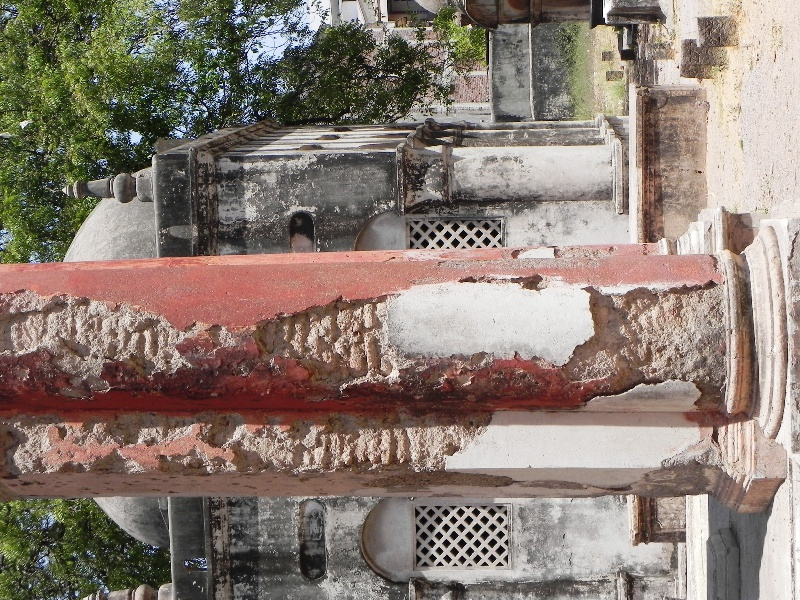Exposed Bricks: (261, 309, 393, 371)
Spalling: (1, 402, 520, 490), (5, 287, 219, 397), (567, 275, 735, 414)
